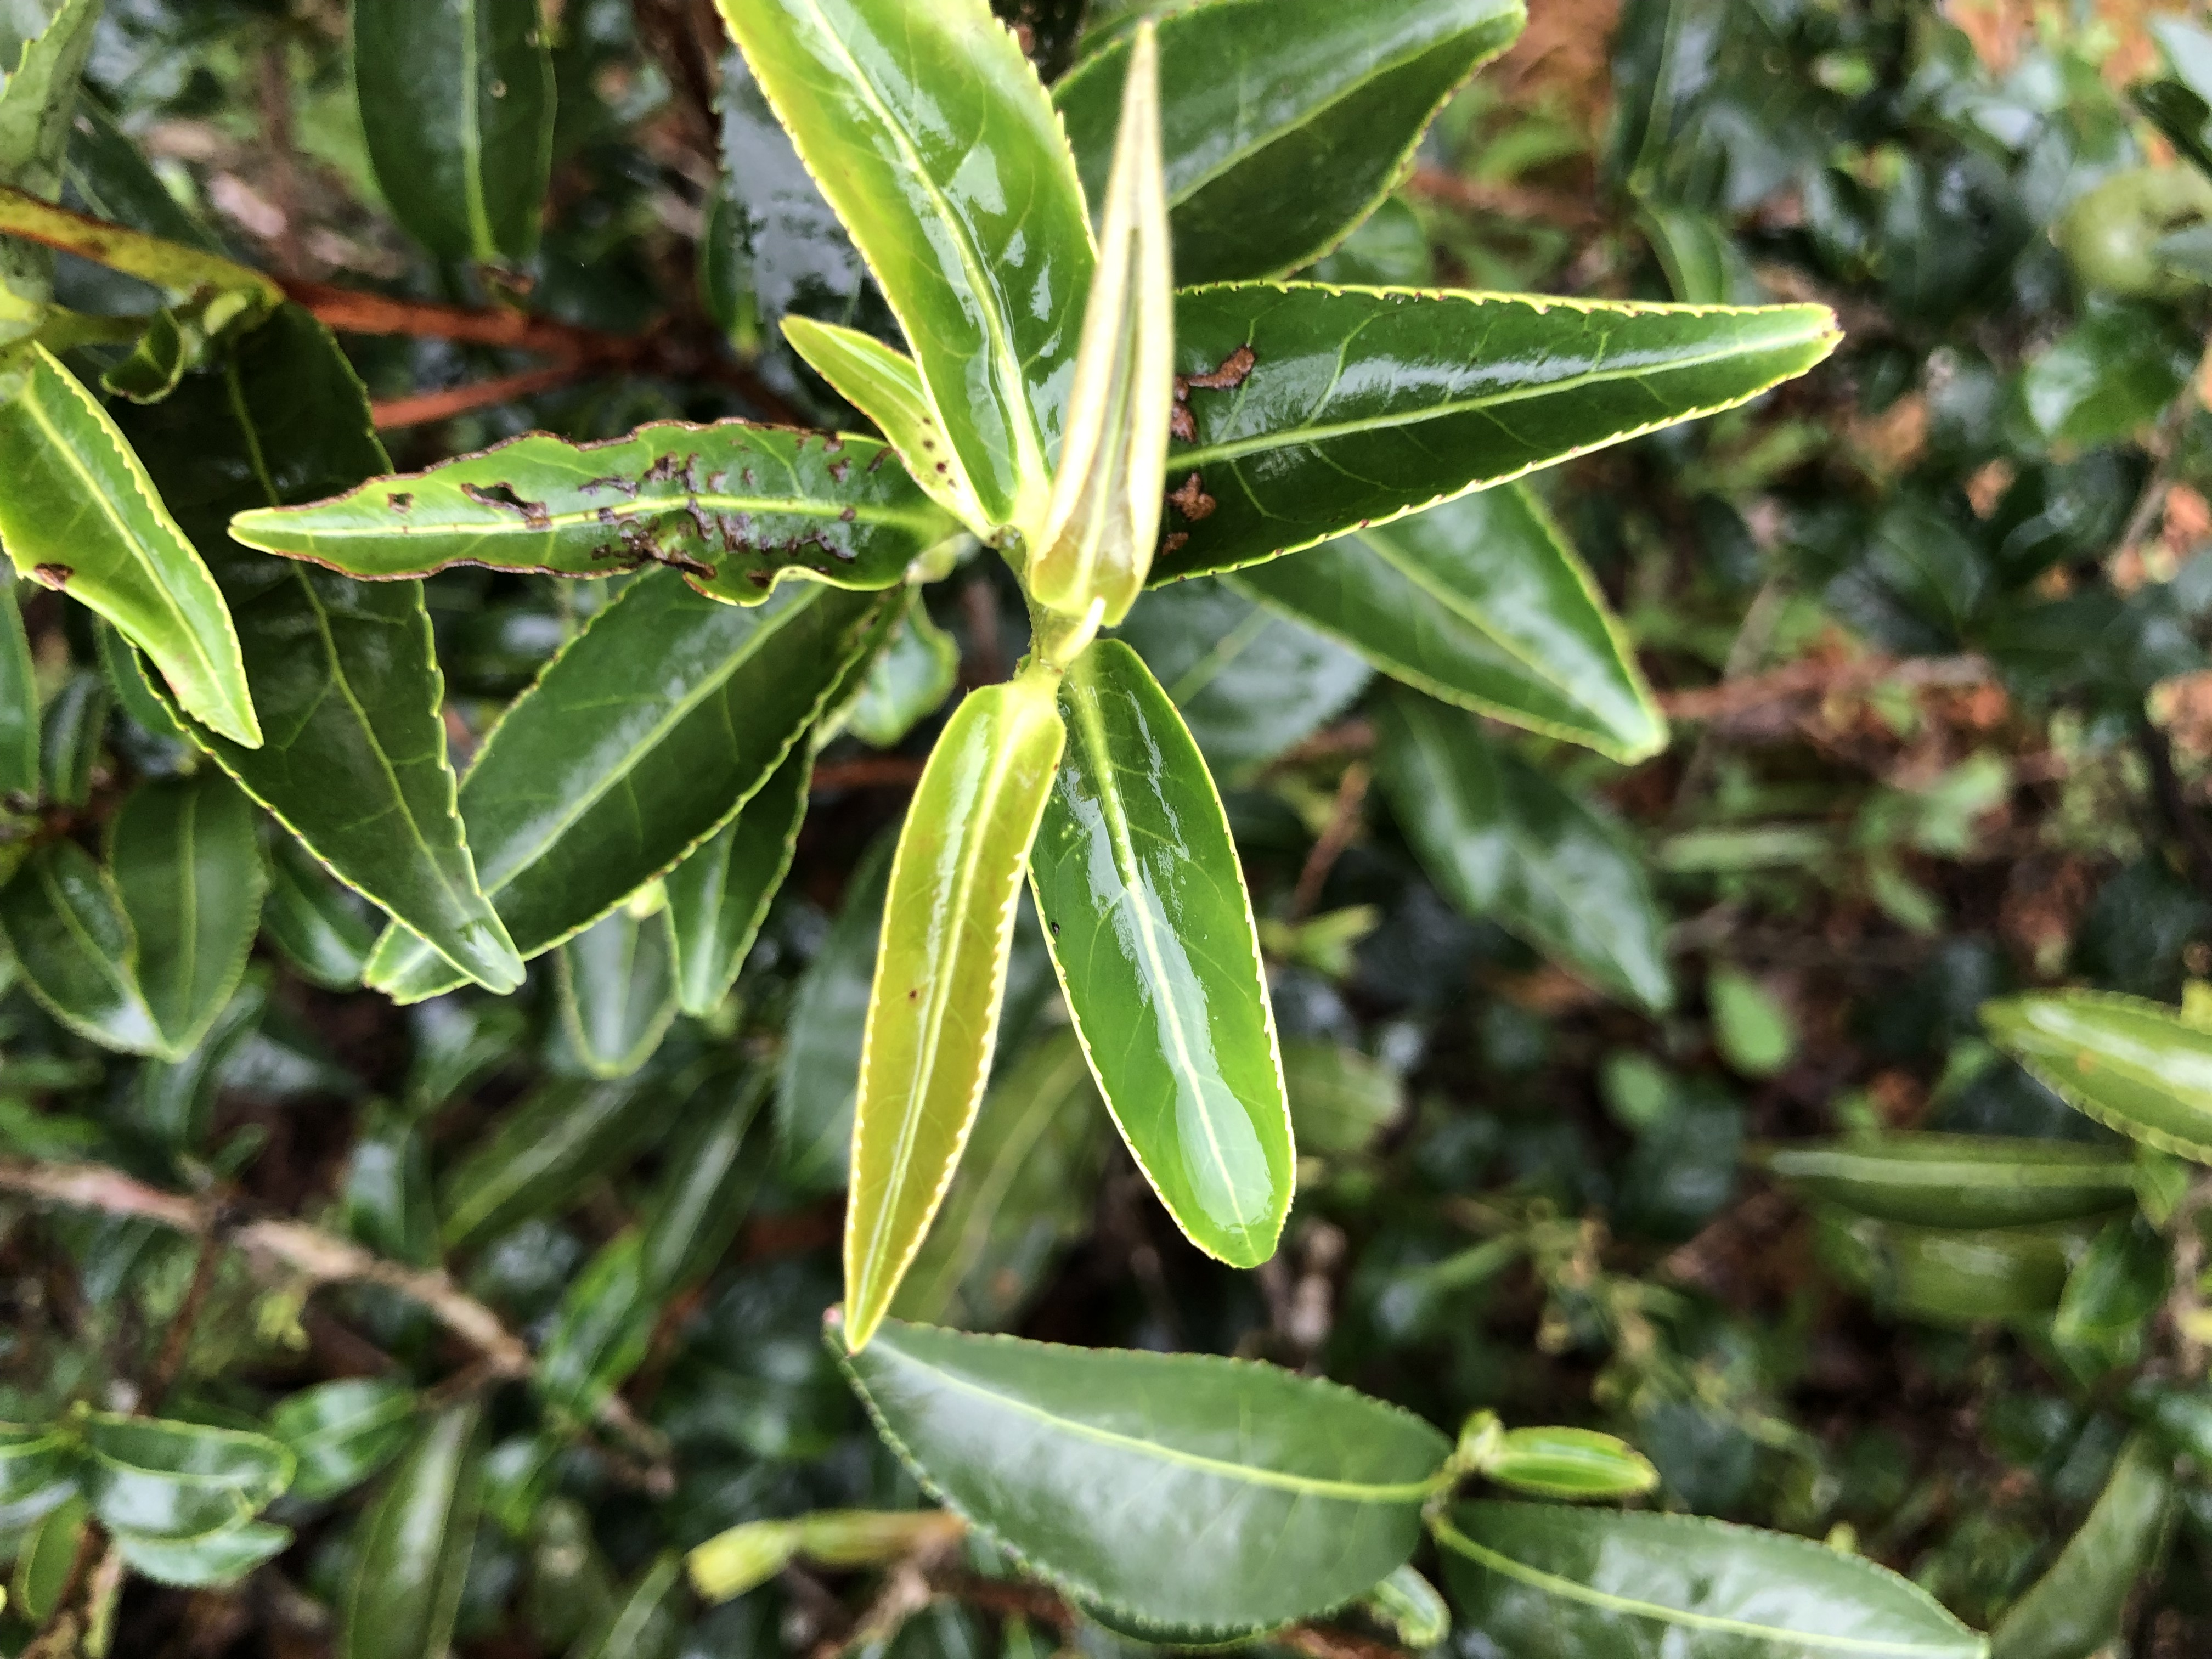formosa: (824, 673, 1055, 1340), (787, 315, 991, 525)
mosquito_late: (240, 418, 894, 606)
